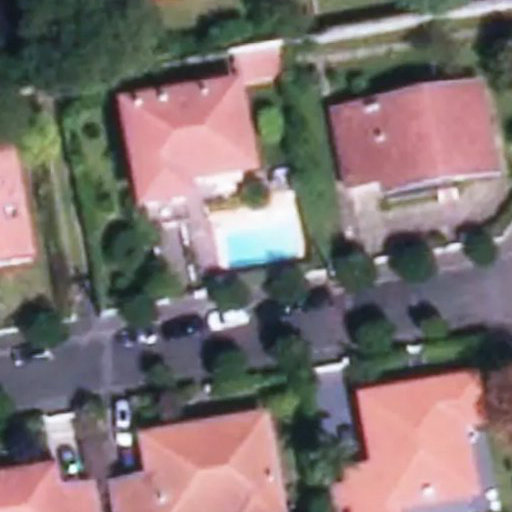pool: (216, 230, 295, 253)
